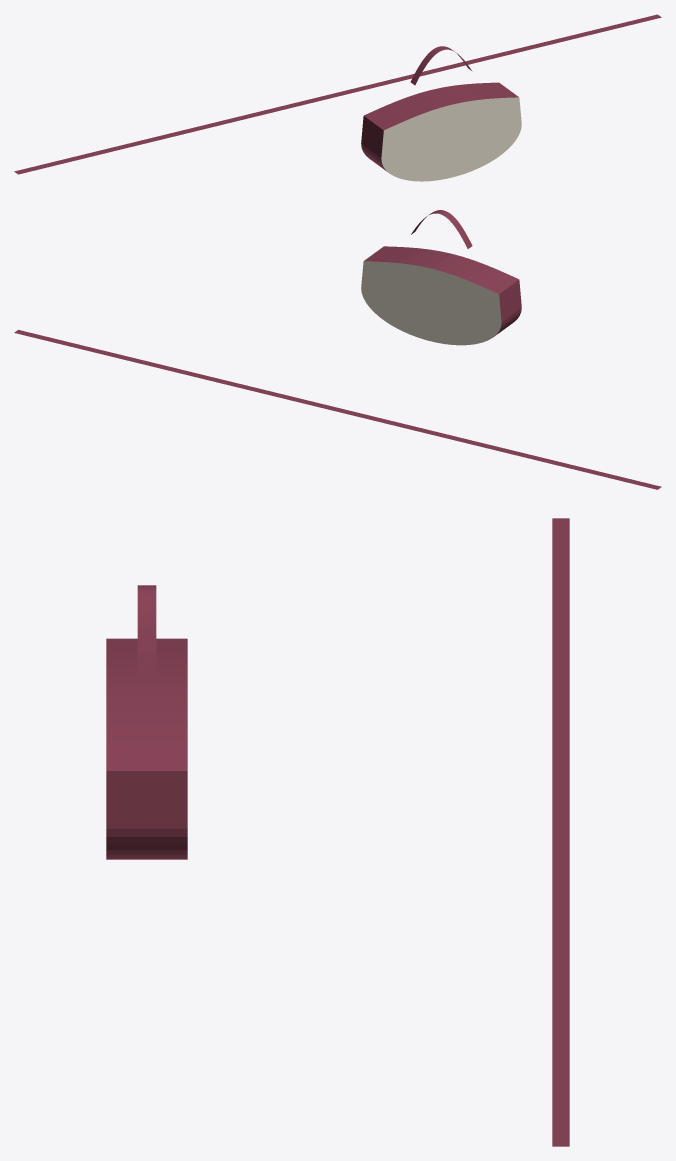
File: grandmas-sunday-best.glb
The picture shows the model from 3 angles, top to bottom: view 1: azimuth 30°, elevation 25°; view 2: azimuth 150°, elevation 25°; view 3: azimuth 270°, elevation 25°; orthographic projection. The views are drawn at different scales.
Visible parts, largest first — view 1: CrescentBody, CrossbodyStrap, ShoulderStrap; view 2: CrescentBody, CrossbodyStrap; view 3: CrescentBody, CrossbodyStrap, ShoulderStrap.
Part boxes in pixels (box(x1,y1,x2,y2)): CrescentBody: box(361, 82, 521, 181); CrossbodyStrap: box(14, 14, 661, 174); ShoulderStrap: box(410, 46, 472, 85); CrescentBody: box(361, 246, 521, 345); CrossbodyStrap: box(14, 330, 661, 489); CrescentBody: box(106, 638, 187, 859); CrossbodyStrap: box(552, 518, 569, 1146); ShoulderStrap: box(137, 585, 156, 673).
Size of the model in its own units: 1.1 by 0.1992 by 0.3426.
